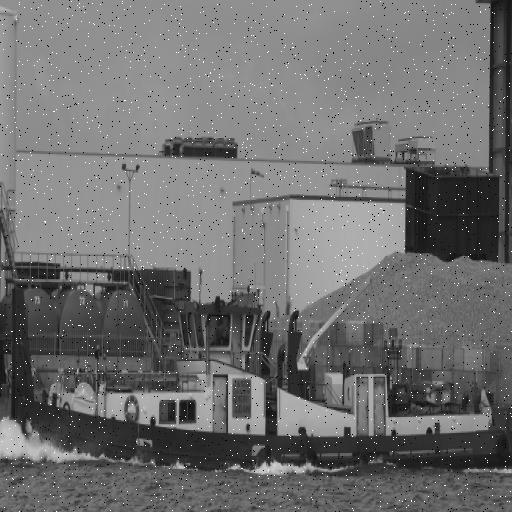tugboat: (1, 281, 512, 493)
